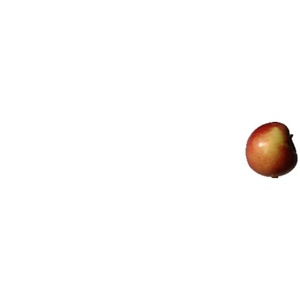maçã braeburn: (242, 119, 298, 180)
